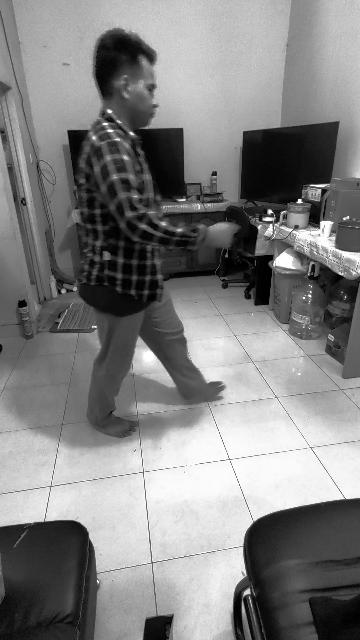berjalan: (78, 25, 224, 433)
